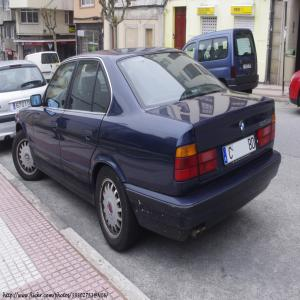Vehicle-registration-plate: (228, 135, 258, 166), (13, 100, 32, 113), (244, 64, 252, 71)
